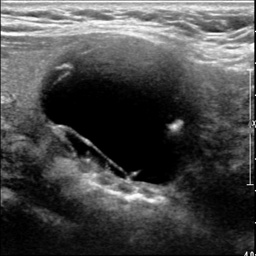mass: (39, 44, 202, 183)
